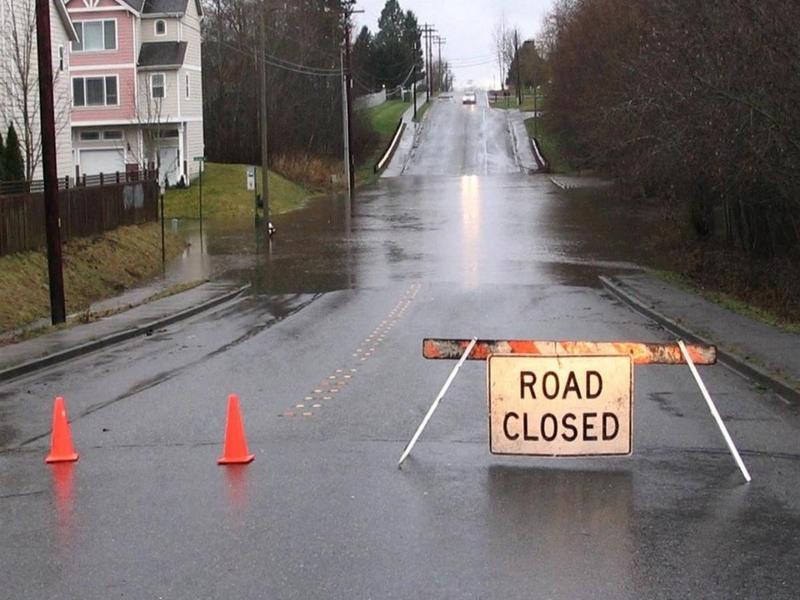Cone1: (216, 394, 257, 465), (44, 395, 80, 463)
